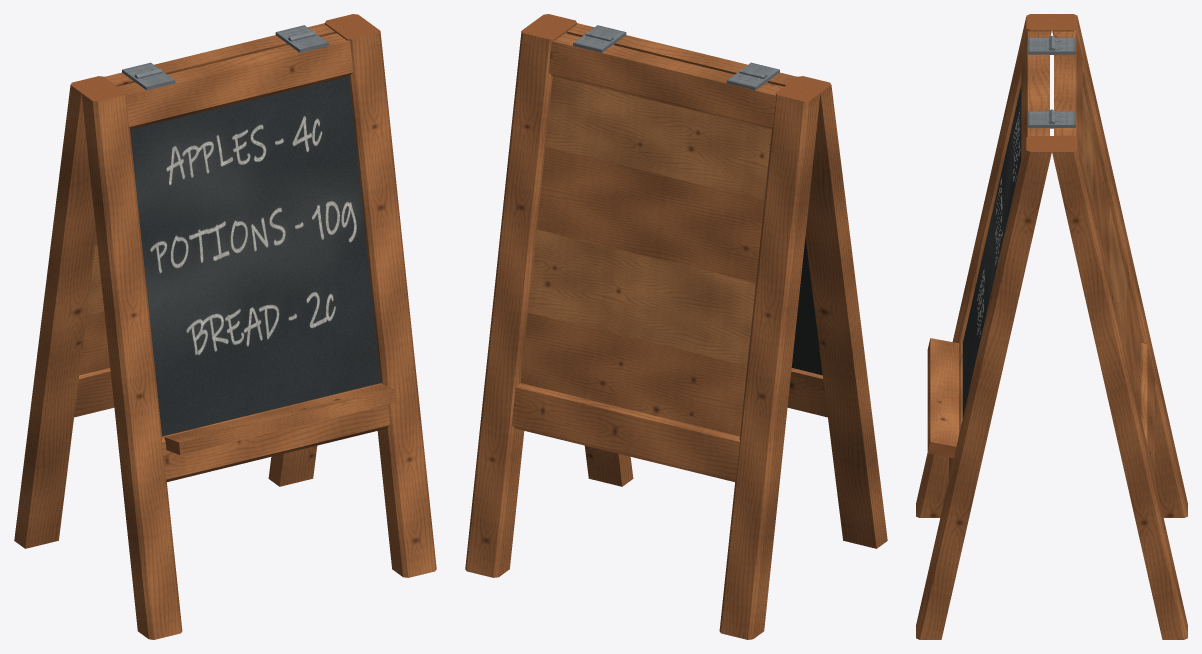
The model's file is FMS_Deco_Signboard_Chalk.fbx.
The picture shows the model from 3 angles, left to right: view 1: azimuth 30°, elevation 25°; view 2: azimuth 150°, elevation 25°; view 3: azimuth 270°, elevation 25°; orthographic projection.
Parts seen in each view (by area): view 1: item_stalls_signboard_chalk; view 2: item_stalls_signboard_chalk; view 3: item_stalls_signboard_chalk.
Boxes of the visible parts, x1,y1,x2,y2 form: item_stalls_signboard_chalk: [14, 14, 436, 639]; item_stalls_signboard_chalk: [465, 14, 887, 639]; item_stalls_signboard_chalk: [916, 14, 1187, 639].
Size of the model in its own units: 0.6 by 0.9995 by 0.5.
1 material, 1 textured.
